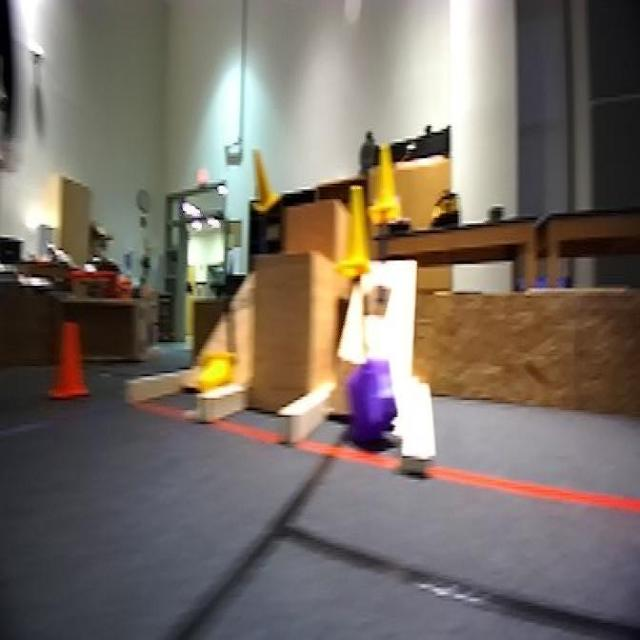frc_cone: (339, 184, 373, 276), (369, 143, 404, 226), (252, 152, 278, 216), (196, 351, 234, 393)
frc_cube: (340, 356, 393, 437)
